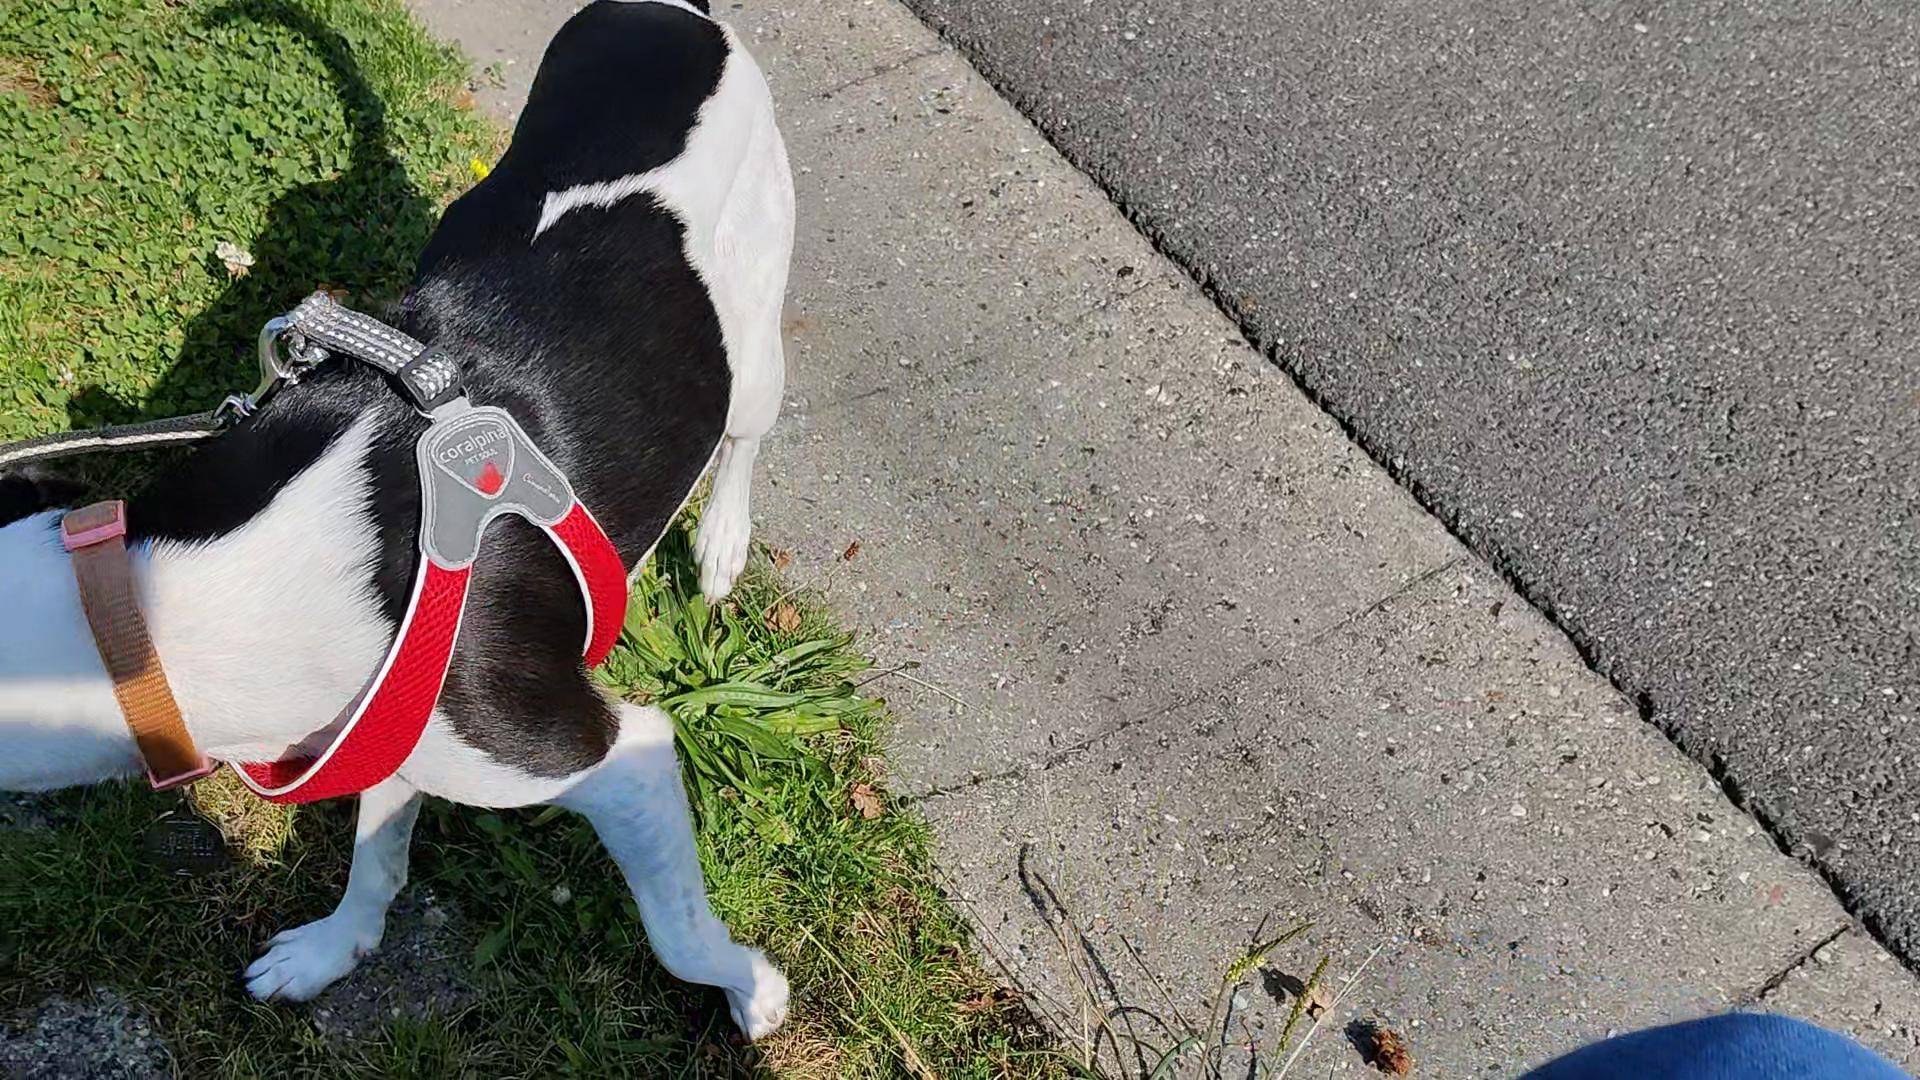Dog: (0, 0, 806, 1044)
